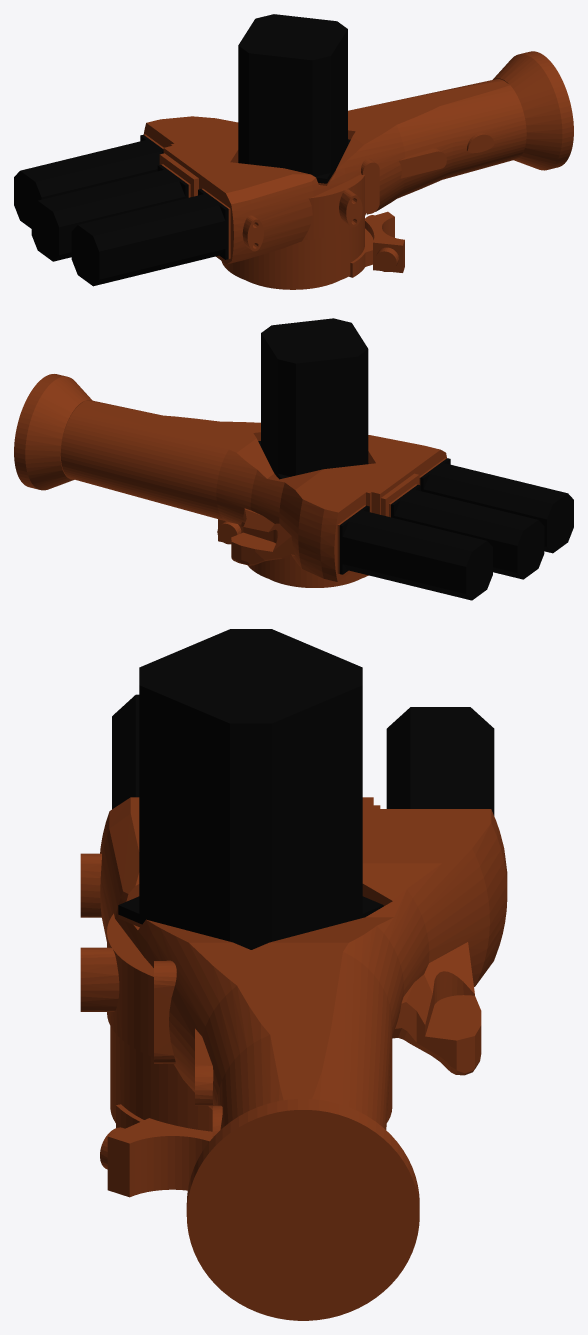
3 views of the same model, one above another, from view 1: azimuth 30°, elevation 25°; view 2: azimuth 150°, elevation 25°; view 3: azimuth 270°, elevation 25° (orthographic). The views are drawn at different scales.
Parts seen in each view (by area): view 1: Link_3, Link_3_Motor4, Link_3_Motor3, Link_3_Motor2, Link_3_Motor1; view 2: Link_3, Link_3_Motor4, Link_3_Motor1, Link_3_Motor2, Link_3_Motor3; view 3: Link_3, Link_3_Motor4, Link_3_Motor1, Link_3_Motor3.
Boxes of the visible parts, box(x1,y1,x2,y2) form: Link_3: box(143, 51, 573, 289); Link_3_Motor4: box(238, 14, 350, 183); Link_3_Motor3: box(71, 189, 228, 286); Link_3_Motor2: box(31, 164, 188, 261); Link_3_Motor1: box(14, 134, 163, 228); Link_3: box(14, 374, 446, 587); Link_3_Motor4: box(258, 318, 368, 479); Link_3_Motor1: box(339, 505, 492, 600); Link_3_Motor2: box(391, 484, 544, 579); Link_3_Motor3: box(420, 458, 573, 553); Link_3: box(80, 797, 507, 1320); Link_3_Motor4: box(118, 629, 383, 949); Link_3_Motor1: box(386, 707, 494, 815); Link_3_Motor3: box(112, 694, 139, 809).
Bounding box in the file's own units: 0.7589 × 0.33 × 0.2875.
